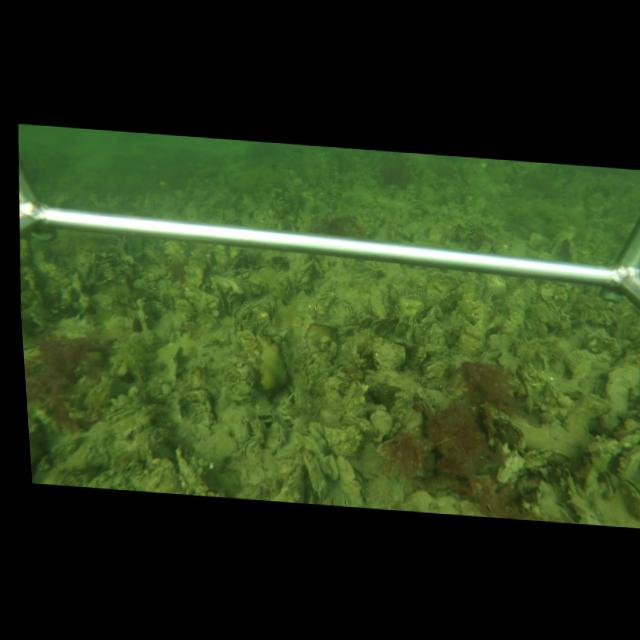Oyster-Closed: (563, 392, 615, 447), (265, 457, 307, 503), (604, 362, 640, 409), (337, 455, 369, 507), (301, 450, 327, 500), (157, 344, 183, 390), (264, 420, 288, 458), (419, 356, 456, 380), (372, 286, 390, 323), (342, 388, 360, 415), (419, 308, 437, 331), (393, 310, 407, 338), (478, 347, 504, 362), (616, 349, 640, 364), (414, 321, 422, 345)
Oyster-Indeterminate: (372, 343, 407, 369), (320, 453, 339, 482)
Oyster-Open: (214, 283, 235, 319), (623, 478, 640, 522), (601, 470, 617, 500)
